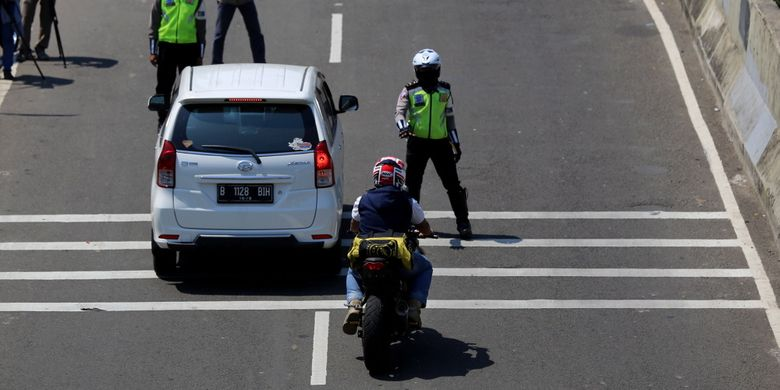car: (150, 61, 352, 271)
motorbike: (343, 163, 432, 387)
